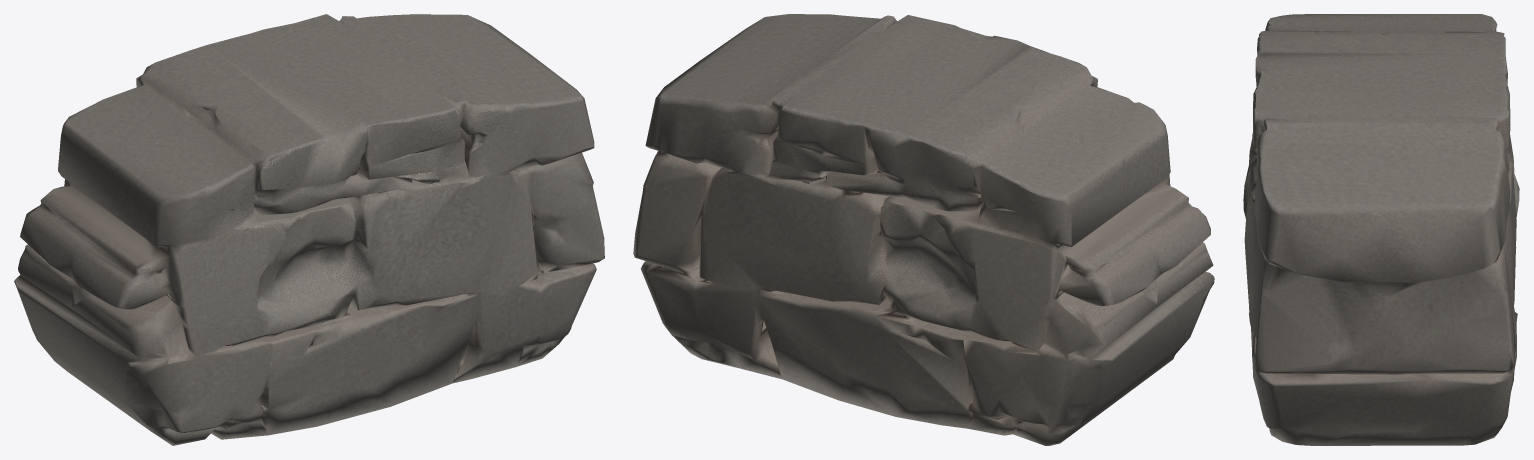
The model's file is prp_rock_outcrop_a.glb.
The picture shows the model from 3 angles, left to right: view 1: azimuth 30°, elevation 25°; view 2: azimuth 150°, elevation 25°; view 3: azimuth 270°, elevation 25°; orthographic projection.
Parts seen in each view (by area): view 1: prp_rock_outcrop_a; view 2: prp_rock_outcrop_a; view 3: prp_rock_outcrop_a.
Part boxes in pixels (x1,y1,x2,y2): prp_rock_outcrop_a: (14, 14, 604, 445); prp_rock_outcrop_a: (633, 14, 1214, 445); prp_rock_outcrop_a: (1243, 14, 1519, 445).
Bounding box in the file's own units: 21.06 × 12 × 10.62.
Materials: 1 (1 with a texture image).
